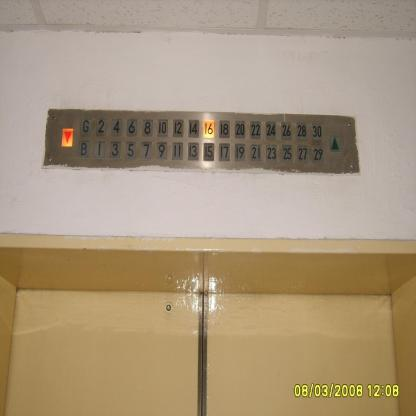1: (93, 140, 106, 158)
10: (157, 118, 168, 137)
11: (172, 142, 184, 160)
12: (172, 118, 184, 138)
13: (187, 141, 199, 161)
14: (188, 119, 200, 138)
15: (203, 142, 214, 161)
16: (203, 119, 214, 139)
17: (219, 141, 230, 162)
18: (219, 120, 230, 138)
19: (234, 142, 246, 162)
2: (95, 118, 107, 136)
20: (234, 119, 246, 139)
21: (250, 144, 262, 162)
22: (250, 120, 262, 139)
23: (265, 144, 277, 162)
24: (266, 121, 276, 139)
25: (281, 144, 293, 164)
26: (280, 121, 292, 140)
27: (297, 145, 308, 163)
28: (296, 122, 307, 140)
29: (312, 146, 324, 164)
3: (109, 140, 121, 158)
30: (311, 122, 322, 140)
4: (111, 117, 122, 136)
5: (125, 141, 136, 159)
6: (126, 118, 138, 136)
7: (140, 141, 152, 160)
8: (142, 118, 154, 137)
9: (155, 141, 168, 160)
B: (78, 140, 90, 158)
G: (81, 118, 92, 134)
down: (62, 128, 74, 146)
up: (329, 134, 341, 152)
